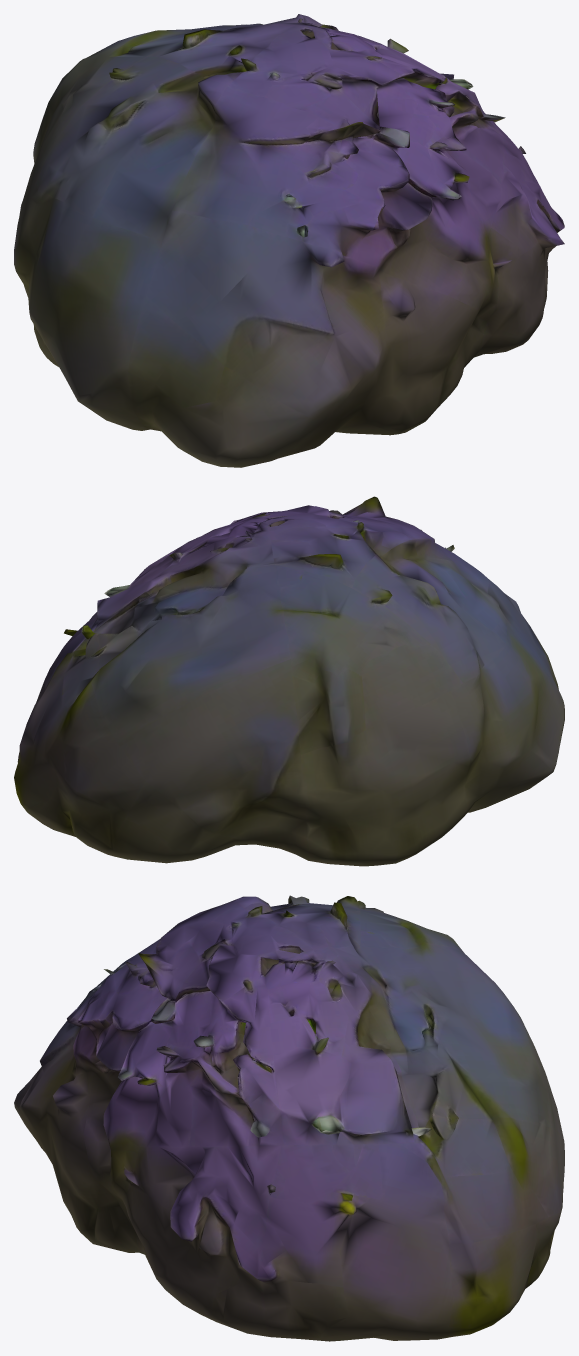
The model's file is rock_purple.glb.
3 renders of one model, top to bottom at view 1: azimuth 30°, elevation 25°; view 2: azimuth 150°, elevation 25°; view 3: azimuth 270°, elevation 25°, orthographic. The views are drawn at different scales.
Parts seen in each view (by area): view 1: tripo_node_419df242; view 2: tripo_node_419df242; view 3: tripo_node_419df242.
Boxes of the visible parts, bbox=[...] form: tripo_node_419df242: bbox=[14, 14, 564, 467]; tripo_node_419df242: bbox=[14, 496, 564, 866]; tripo_node_419df242: bbox=[14, 895, 564, 1341].
Bounding box in the file's own units: 0.9769 × 0.6123 × 0.9569.
1 material, 1 textured.
